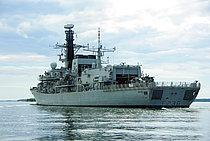MIL_Ship: (29, 23, 200, 109)
